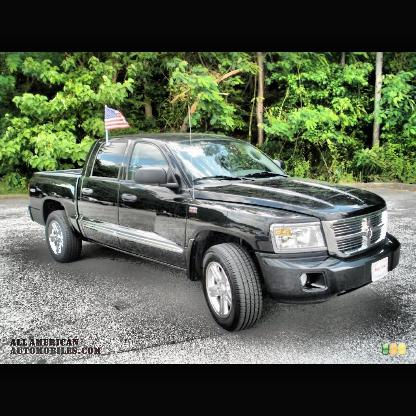Dodge Dakota Crew Cab 2010: (28, 102, 398, 332)
